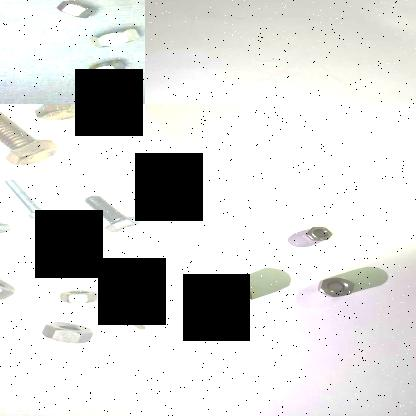Bolts: (0, 106, 63, 168), (70, 192, 145, 235), (0, 175, 51, 223), (18, 104, 93, 125), (0, 192, 11, 242)
NUTS: (39, 314, 103, 350), (78, 27, 145, 49), (44, 284, 104, 306), (208, 281, 255, 308), (36, 246, 88, 270), (82, 56, 136, 79), (47, 0, 97, 24), (313, 276, 355, 298), (302, 223, 334, 244), (126, 304, 145, 330), (0, 271, 15, 303)
